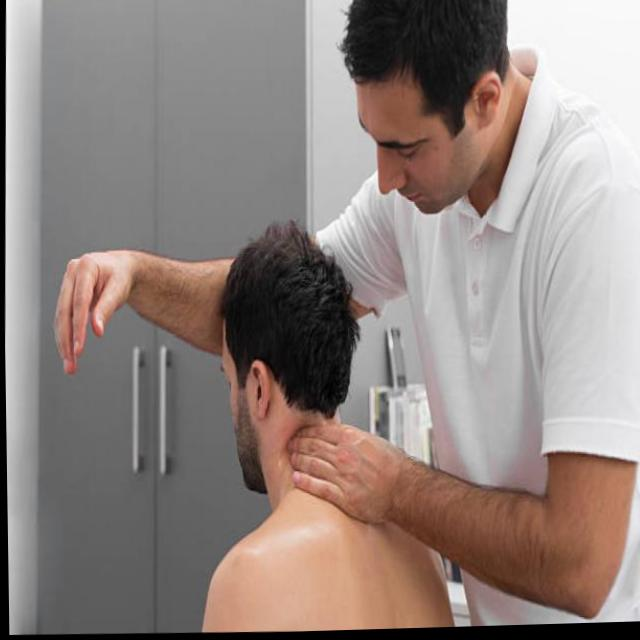no helmet: (222, 228, 361, 472)
